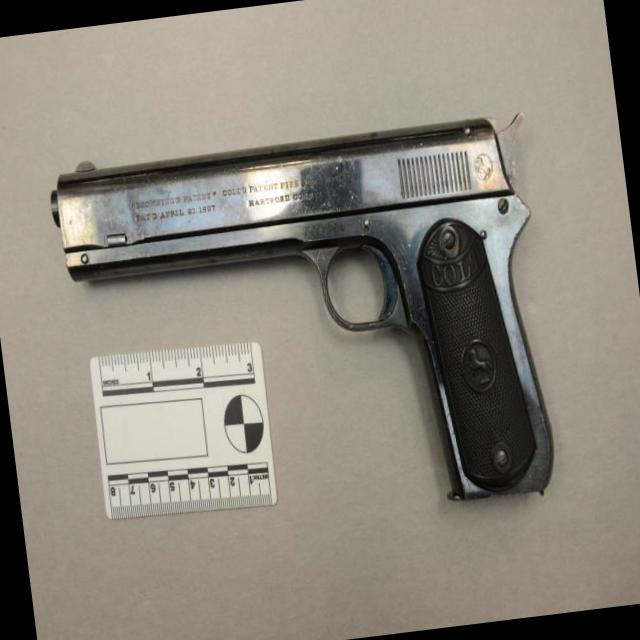Gun: (53, 120, 551, 499)
